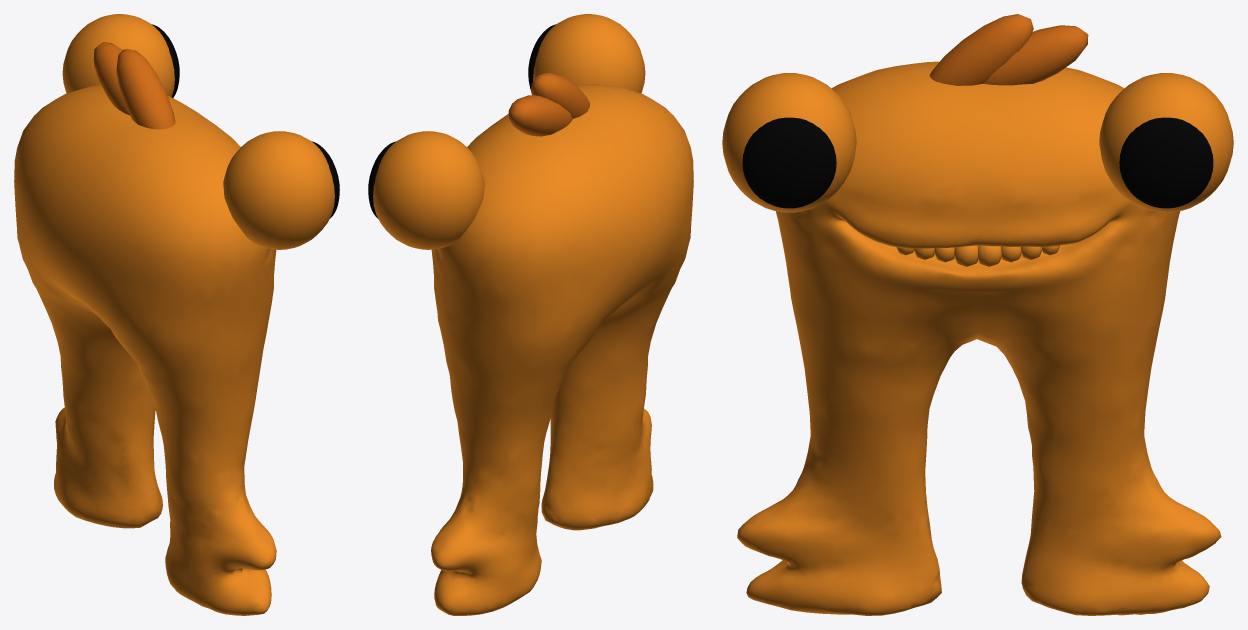
File: PPGpomFBX.fbx
The picture shows the model from 3 angles, left to right: view 1: azimuth 30°, elevation 25°; view 2: azimuth 150°, elevation 25°; view 3: azimuth 270°, elevation 25°; orthographic projection. The views are drawn at different scales.
Visible parts, largest first — view 1: Sphere.002; view 2: Sphere.002; view 3: Sphere.002.
Part boxes in pixels (bbox=[...]): Sphere.002: bbox=[14, 14, 339, 615]; Sphere.002: bbox=[368, 14, 693, 615]; Sphere.002: bbox=[722, 14, 1233, 615].
Size of the model in its own units: 268 by 625 by 499.
